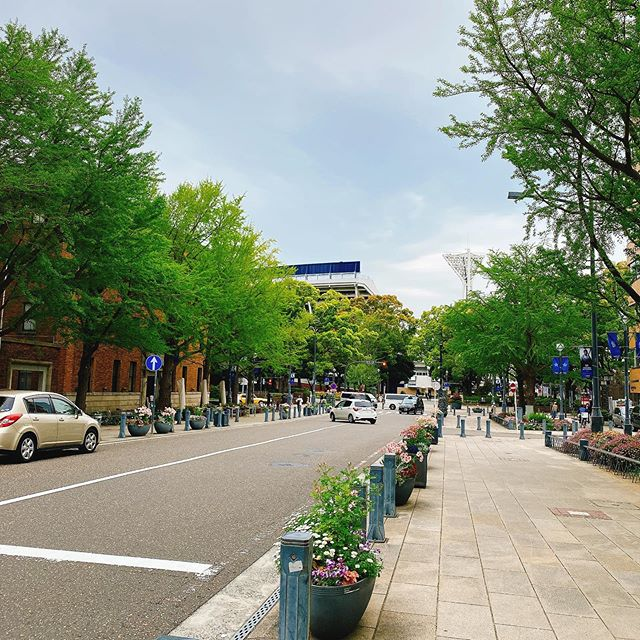car: (1, 386, 116, 460), (332, 390, 379, 424)
sidewalk: (234, 410, 640, 635)
sky: (89, 1, 545, 253)
street: (6, 402, 416, 632)
tree: (461, 1, 639, 280)
vegetation: (1, 65, 350, 361), (421, 249, 629, 396)
